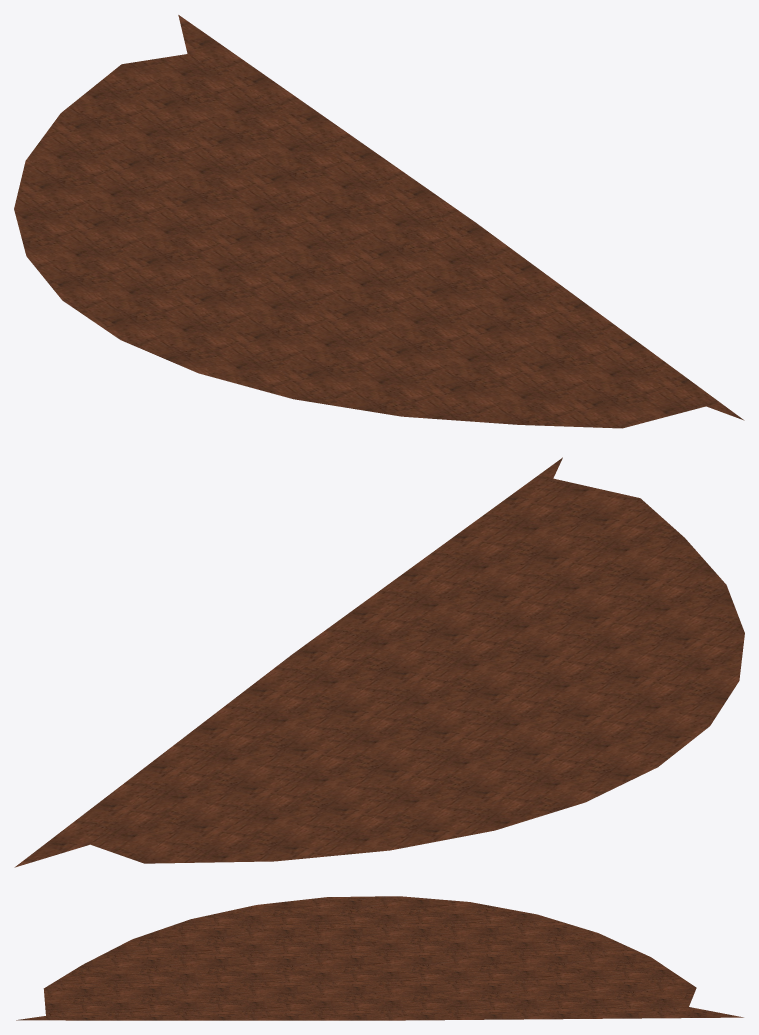
The model's file is Office2334 (2).fbx.
The picture shows the model from 3 angles, top to bottom: view 1: azimuth 30°, elevation 25°; view 2: azimuth 150°, elevation 25°; view 3: azimuth 270°, elevation 25°; orthographic projection. The views are drawn at different scales.
Visible parts, largest first — view 1: Floor.001; view 2: Floor.001; view 3: Floor.001.
Boxes of the visible parts, <box> form: Floor.001: <box>14,15,744,428</box>; Floor.001: <box>14,457,744,867</box>; Floor.001: <box>16,896,743,1020</box>.
Size of the model in its own units: 340 by 0.000101 by 844.
1 material, 1 textured.
